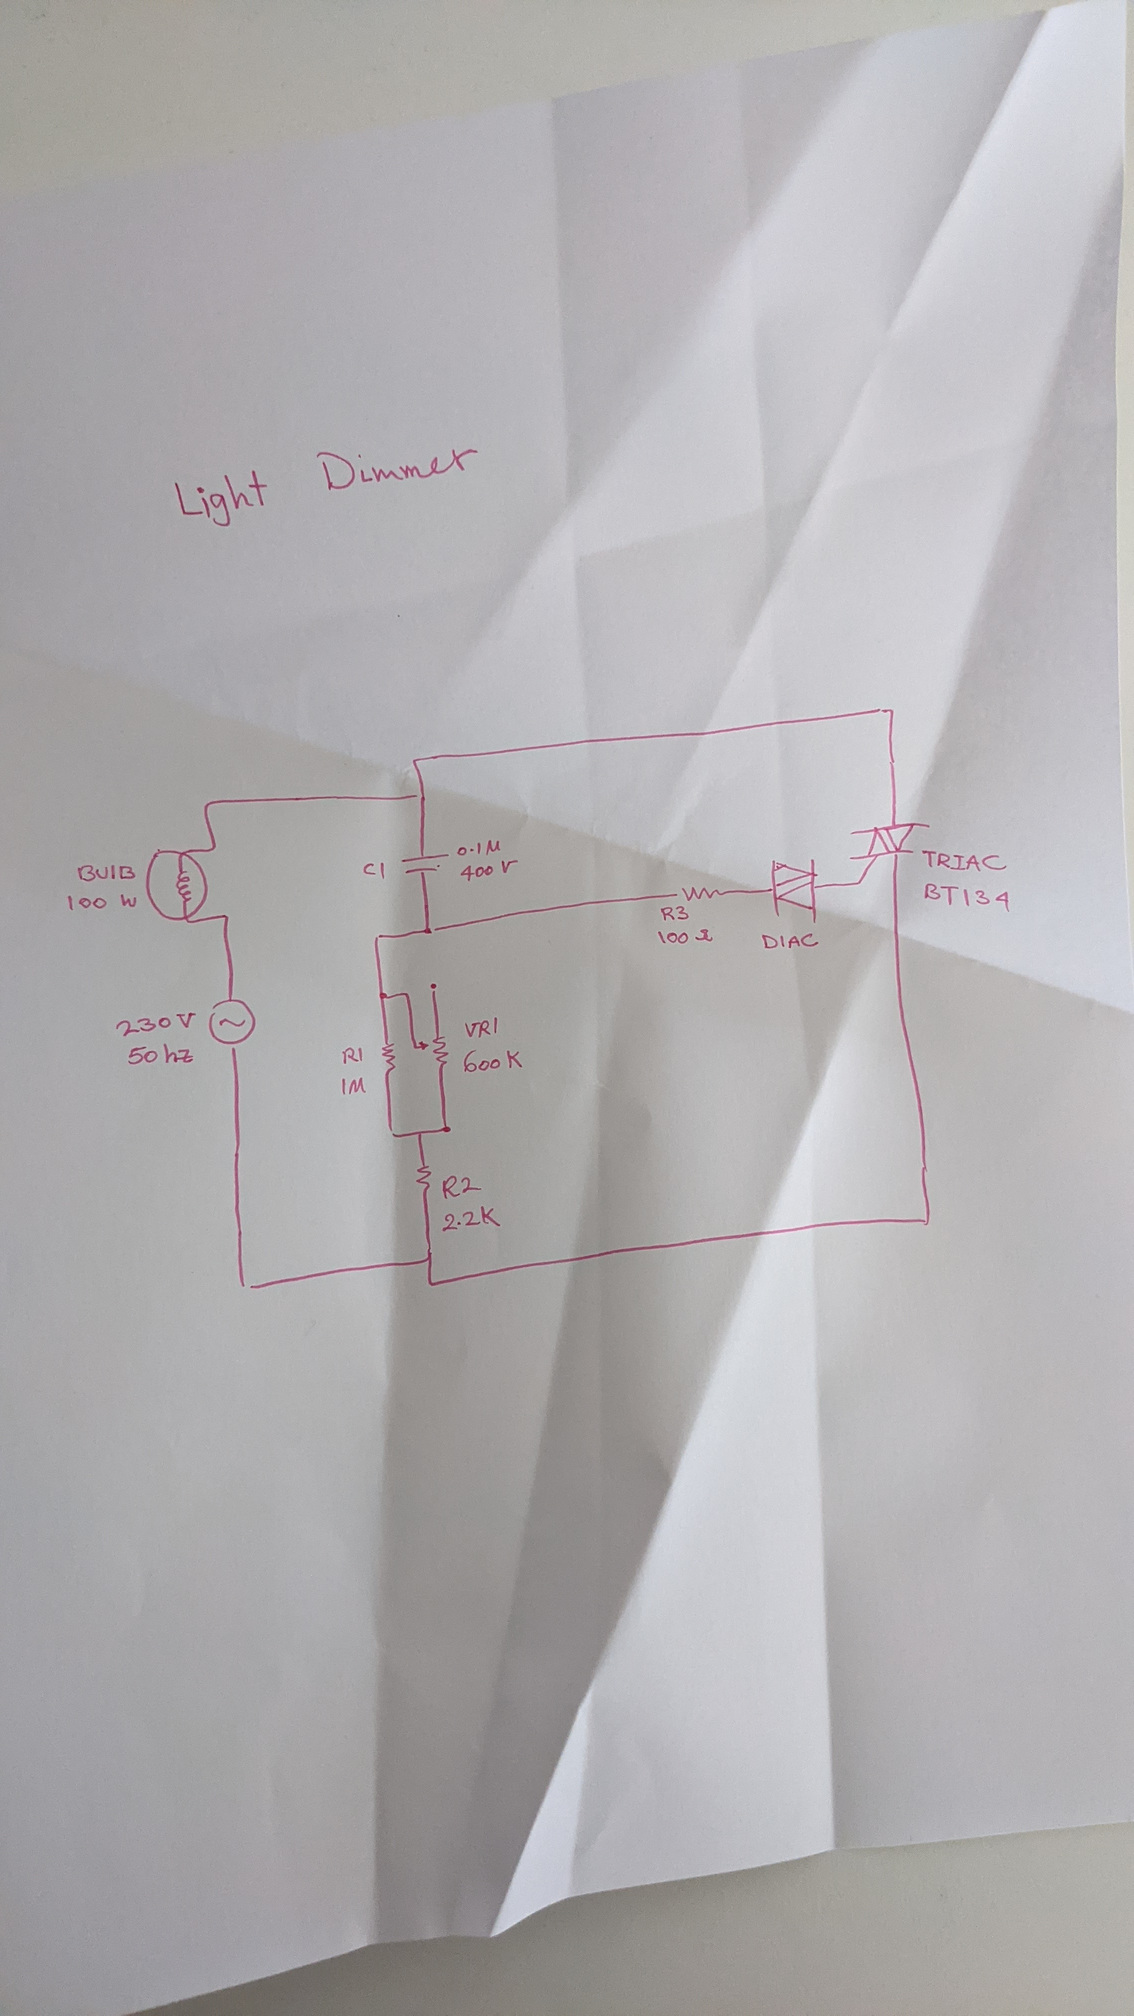capacitor.unpolarized: (397, 849, 451, 876)
diac: (768, 856, 821, 928)
junction: (874, 703, 896, 719), (199, 796, 217, 814), (237, 1278, 258, 1293), (918, 1214, 936, 1231), (420, 924, 439, 937), (413, 788, 429, 803), (424, 1248, 438, 1266), (438, 1122, 454, 1135), (386, 1124, 399, 1141), (375, 989, 390, 1001), (414, 1127, 428, 1140), (425, 1277, 438, 1290), (219, 910, 233, 922), (208, 840, 222, 853), (402, 989, 414, 1001), (372, 930, 385, 943), (853, 876, 865, 889), (428, 979, 439, 991), (408, 755, 421, 766)
lamp: (144, 846, 210, 924)
resistor: (672, 883, 726, 901), (377, 1038, 402, 1077), (413, 1160, 433, 1194)
resistor.adjustable: (408, 1033, 453, 1072)
text: (172, 444, 480, 530), (921, 879, 1014, 915), (912, 847, 1009, 874), (112, 1009, 197, 1038), (439, 1203, 504, 1234), (65, 889, 140, 914), (125, 1041, 194, 1068), (462, 1045, 525, 1074), (458, 858, 522, 883), (75, 861, 138, 883), (654, 924, 714, 946), (759, 930, 820, 951), (440, 1171, 485, 1199), (462, 1015, 503, 1041), (456, 836, 503, 858), (336, 1074, 368, 1097), (658, 904, 691, 924), (341, 1043, 366, 1066), (361, 858, 388, 881)
triac: (843, 821, 930, 871)
voltage.dc_ac: (206, 996, 259, 1050)
